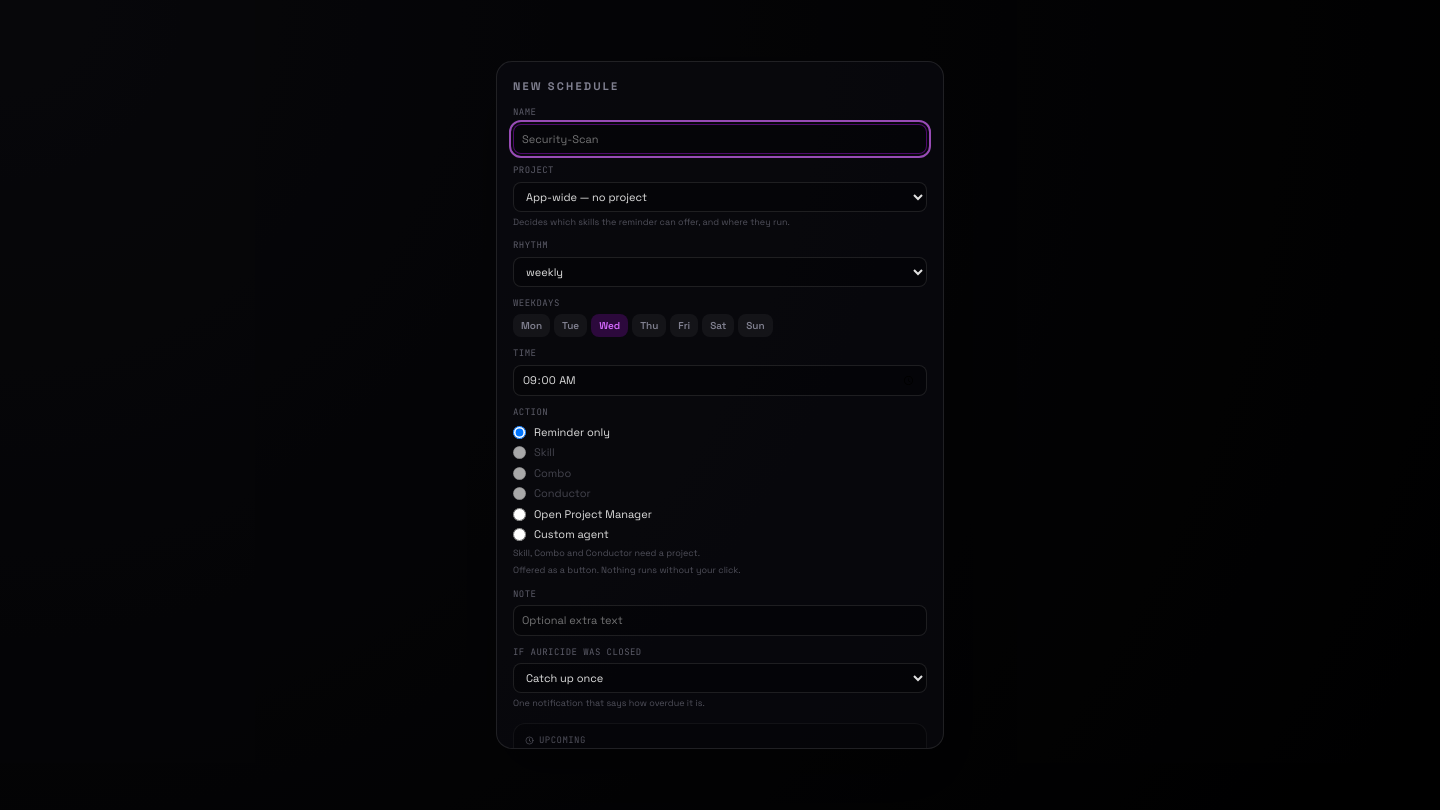
Test: ScheduleEditor: open a Project Manager › writes nothing until a manager is picked, and holds the save
Step 1. Type "Triage" into the field with test id "schedule-name" → (720, 139), box [513,124,927,154]
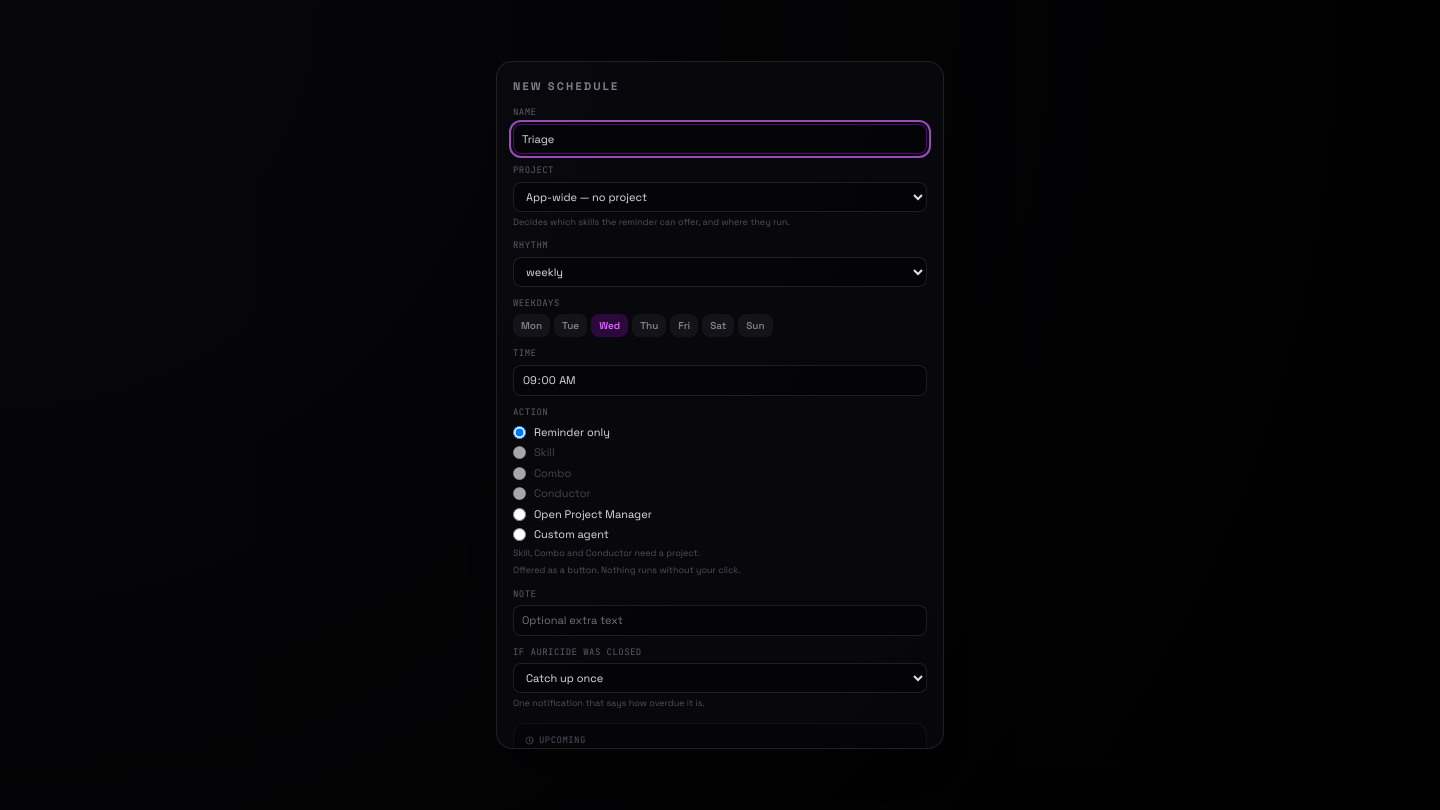
Step 2. Click the radio button with test id "schedule-action-manager" → (520, 514), box [513,508,526,520]
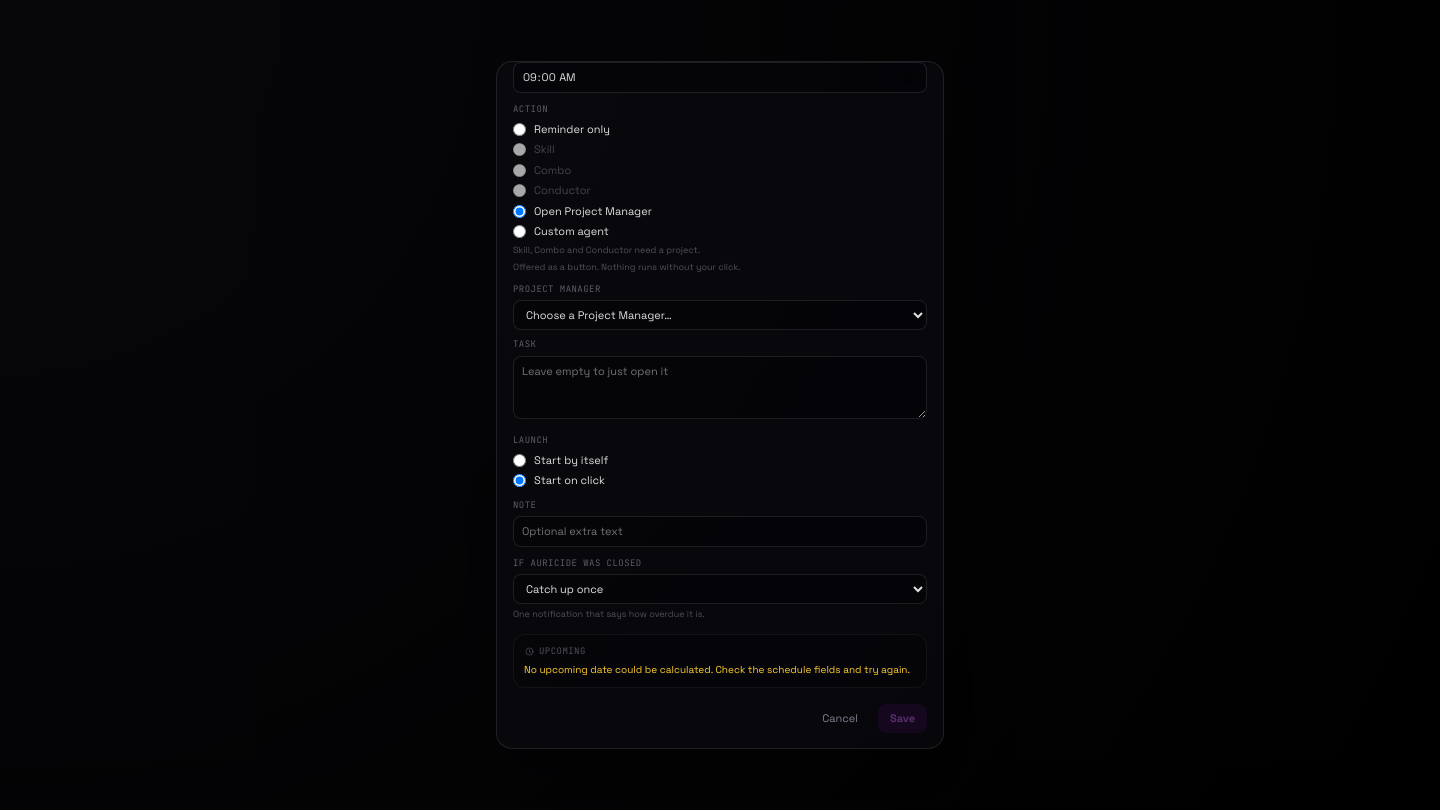
Result: the button with test id "schedule-save" is disabled at [878,704,927,733]
